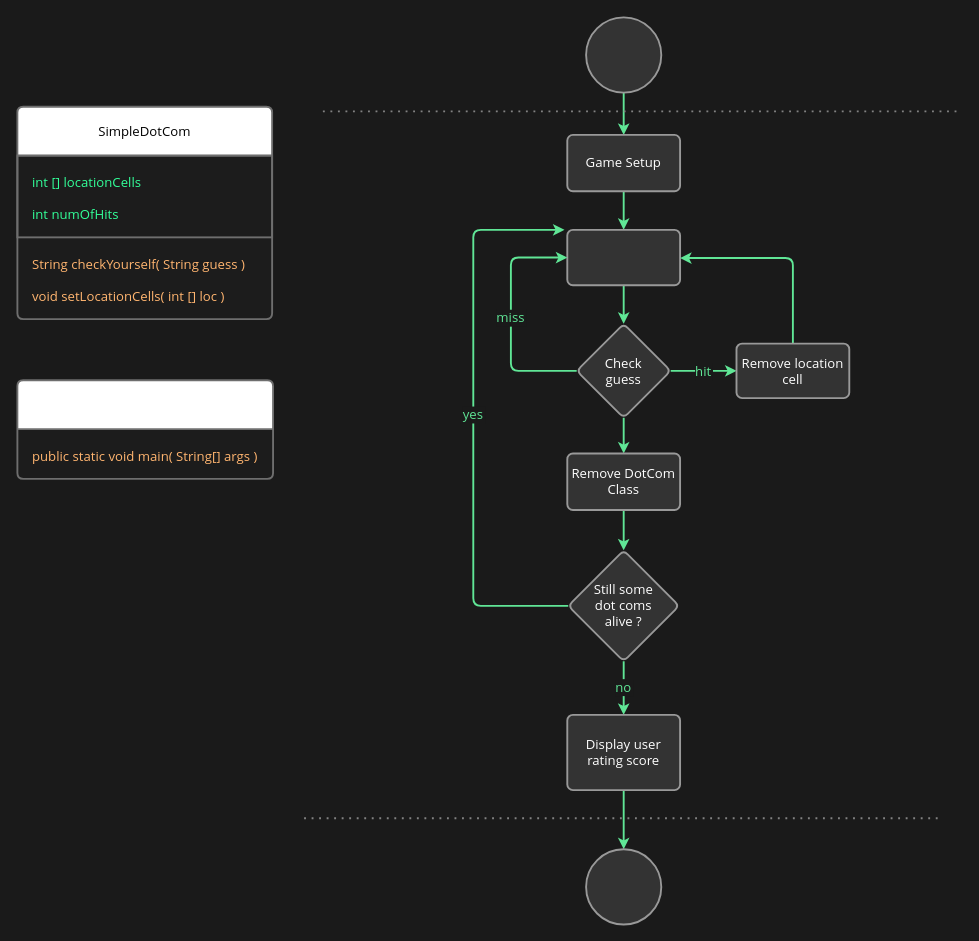
Some shapes in this 979 by 941 pixel diagram are drawn without their labels. Here are the shapes that lost their labels. From the top down, the box of each, then its label:
(585, 16, 662, 93): Start
(566, 228, 681, 286): Get user guess
(16, 379, 274, 479): SimpleDotComGame
(585, 848, 662, 925): End
